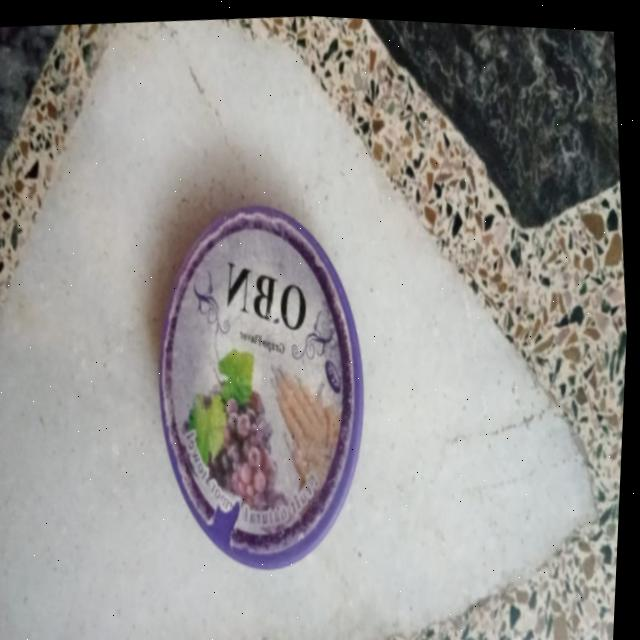lip balm: (131, 182, 405, 573)
